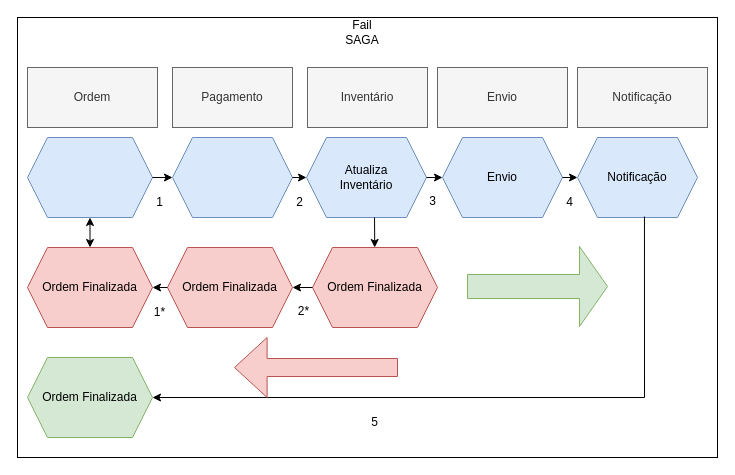
This 735x475 diagram has some shape labels left out. The box of each missing label's shape, as (x1, y1, x2, y2) in pixels:
Criar Ordem: (26, 136, 152, 218)
Rollback: (234, 336, 398, 398)
Sucesso: (466, 246, 608, 326)
Valida Pagamento: (172, 136, 292, 218)
